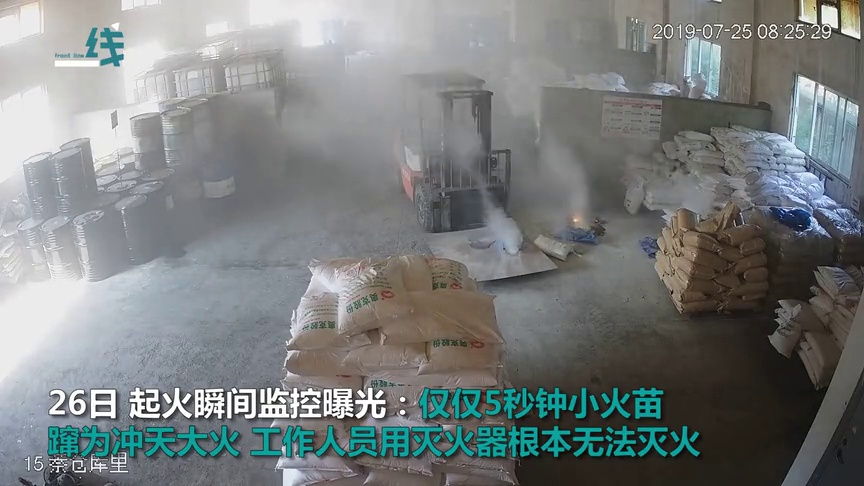smoke: (527, 133, 592, 216), (473, 183, 520, 251)
